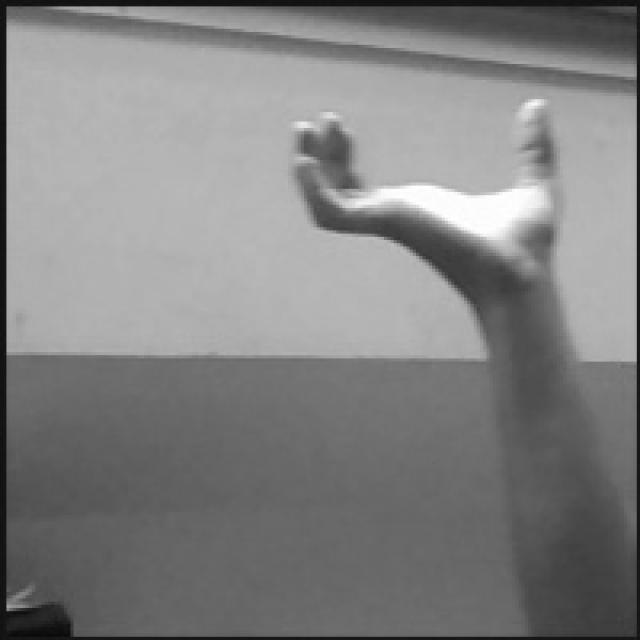space: (286, 94, 562, 290)
